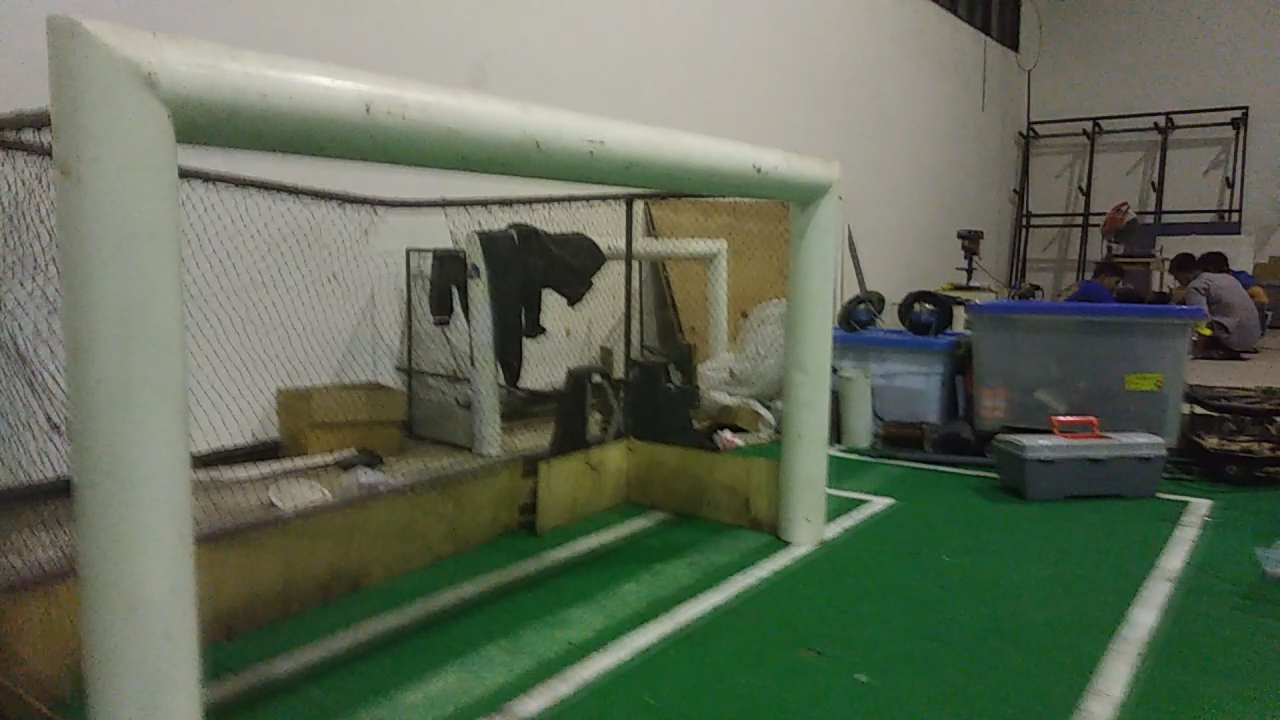gawang: (28, 3, 861, 719)
